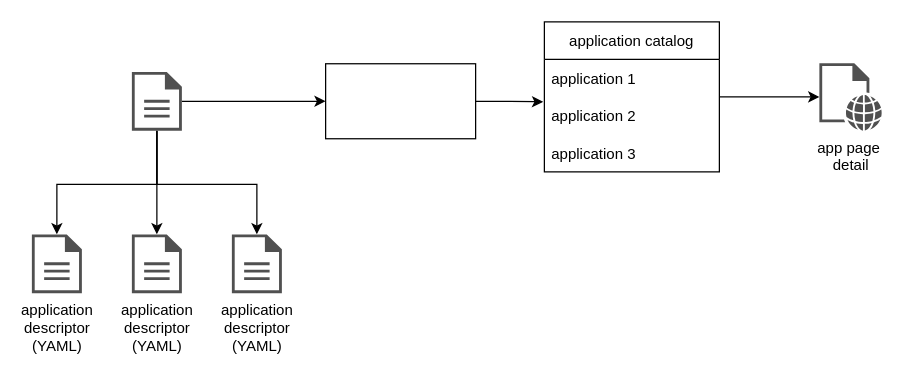
Image size: 905x378. Some labels were removed from this diagram. Here are the shapes that lost their labels. From the top down, the centre of each, then its label:
pixel 156 100: application index catalog (YAML)
pixel 400 100: app loader
